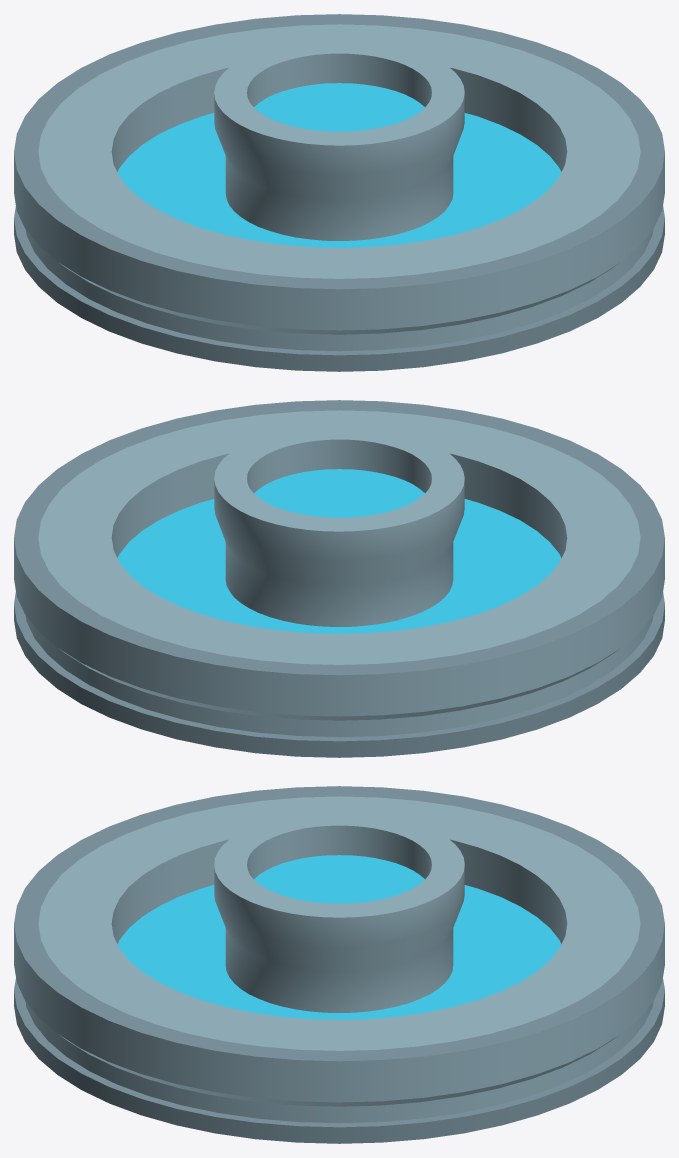
Rendered from fountainRoundDetail.obj.
3 views of the same model, one above another, from view 1: azimuth 30°, elevation 25°; view 2: azimuth 150°, elevation 25°; view 3: azimuth 270°, elevation 25° (orthographic).
Visible parts, largest first — view 1: fountainRoundDetail; view 2: fountainRoundDetail; view 3: fountainRoundDetail.
Part boxes in pixels (x1,y1,x2,y2): fountainRoundDetail: [14, 14, 664, 371]; fountainRoundDetail: [14, 400, 664, 757]; fountainRoundDetail: [14, 786, 664, 1143].
Size of the model in its own units: 2 by 0.48 by 2.
